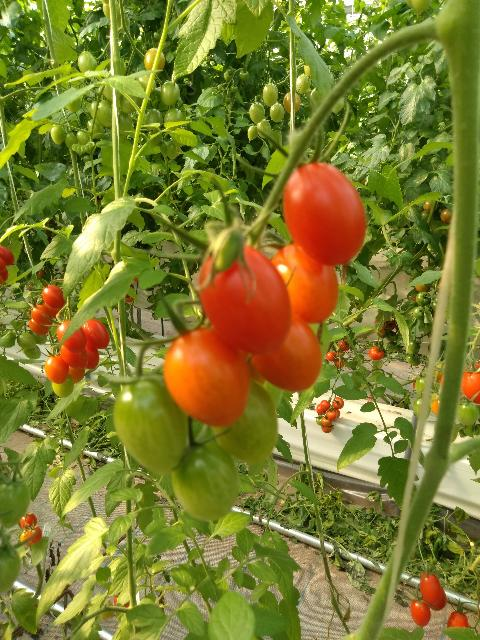l_fully_ripened: (199, 243, 292, 355), (282, 161, 367, 268), (244, 309, 322, 392), (56, 320, 87, 353), (82, 319, 110, 349), (420, 571, 442, 606), (461, 365, 480, 404), (60, 344, 88, 370), (41, 285, 66, 308), (411, 597, 430, 627), (426, 585, 447, 611), (446, 610, 470, 628), (84, 343, 100, 369), (20, 512, 38, 530), (26, 525, 43, 544), (0, 246, 14, 266), (0, 257, 6, 272)
l_green: (114, 375, 187, 475), (208, 378, 277, 464), (172, 441, 240, 521), (0, 478, 30, 529), (0, 543, 21, 596), (456, 401, 480, 425), (51, 374, 75, 397), (78, 51, 97, 78), (161, 81, 181, 106), (163, 107, 183, 131), (145, 108, 163, 133), (121, 92, 140, 114), (97, 100, 112, 127), (118, 108, 133, 135), (90, 100, 104, 127), (263, 83, 279, 106), (17, 332, 36, 350), (50, 124, 66, 145), (249, 103, 265, 124), (270, 102, 285, 123), (296, 73, 311, 94), (87, 119, 104, 137), (148, 128, 162, 148), (77, 129, 93, 146), (257, 119, 271, 138), (24, 345, 41, 359), (30, 331, 48, 344), (65, 133, 78, 151), (66, 97, 80, 112), (332, 97, 344, 113), (247, 126, 258, 140)
l_half_ripened: (164, 327, 251, 428), (270, 242, 339, 324), (45, 353, 69, 384), (144, 48, 165, 75), (31, 304, 54, 326), (283, 91, 301, 114), (42, 301, 62, 319), (28, 318, 49, 335), (68, 364, 85, 383), (21, 529, 33, 546)
